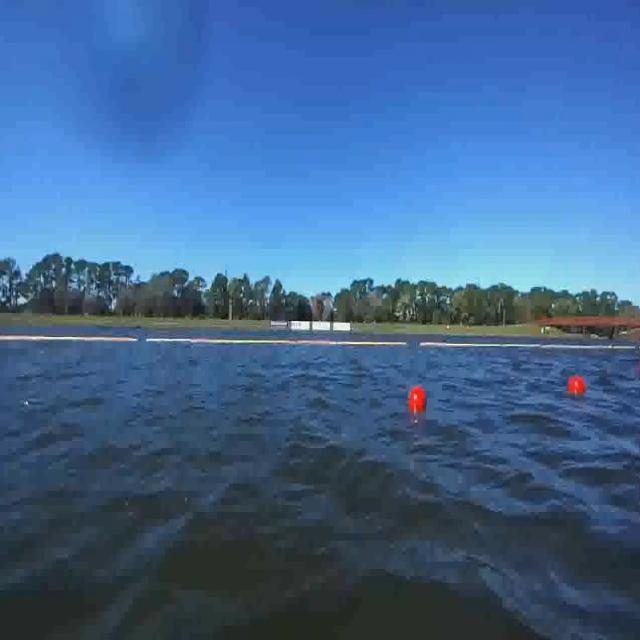red-buoy: (409, 384, 426, 411), (566, 374, 586, 393)
